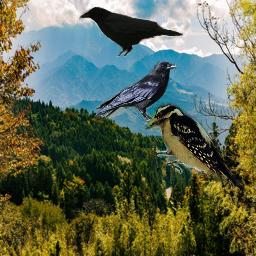Crow: (93, 59, 179, 125), (76, 4, 183, 57)
Woodpecker: (145, 100, 247, 194)
